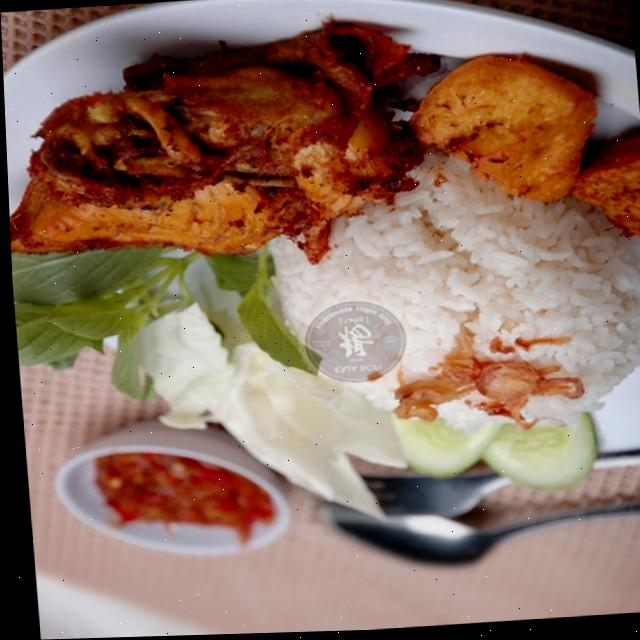米饭主食: (1, 8, 640, 640)
